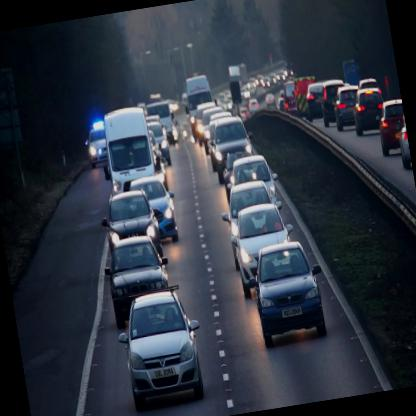car: (112, 286, 212, 412), (244, 238, 333, 350), (98, 232, 176, 332), (226, 197, 301, 298), (216, 176, 288, 255), (96, 187, 162, 267), (126, 174, 180, 246), (207, 112, 258, 184), (223, 151, 280, 209), (372, 98, 410, 160), (350, 86, 388, 136), (330, 86, 365, 132), (318, 78, 350, 128), (146, 119, 171, 168), (84, 128, 110, 169), (302, 82, 326, 122)
truck: (99, 103, 157, 194), (182, 72, 218, 138), (146, 98, 175, 150)
